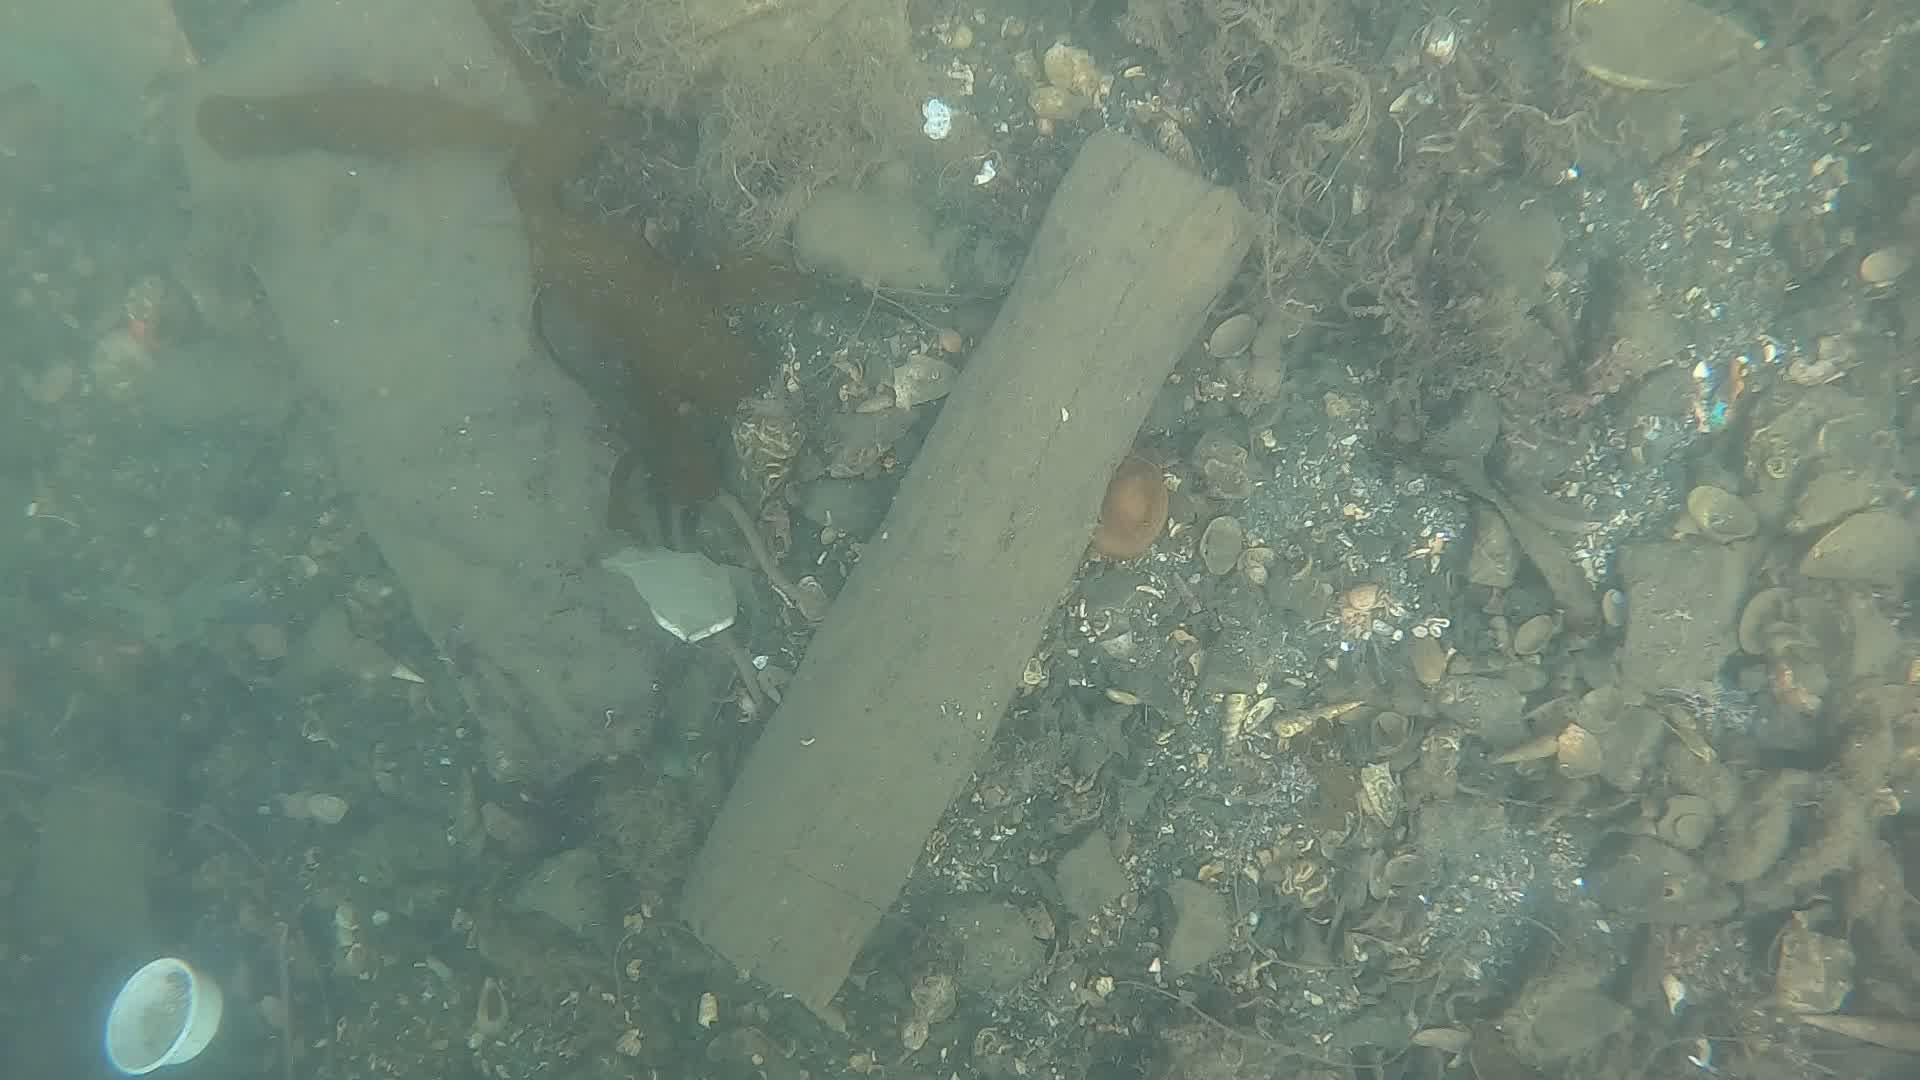wood: (659, 129, 1254, 1010)
